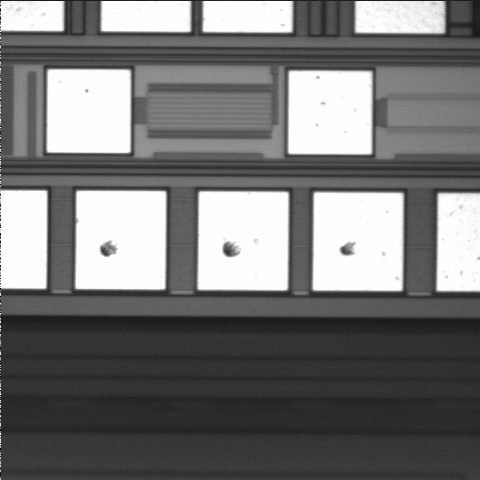pad: (76, 191, 166, 289), (198, 192, 288, 290), (313, 193, 403, 291), (47, 69, 131, 153), (288, 71, 372, 154)
